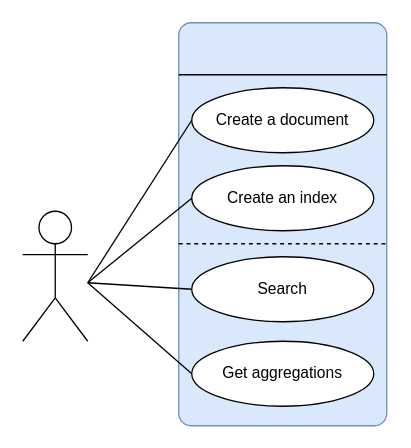
Image size: 411x448. Some labels were removed from this diagram. Here are the shapes that lost their labels. From the top down, the box of each, then its label:
(177, 21, 387, 426): Search Service
(21, 210, 88, 341): Actor
